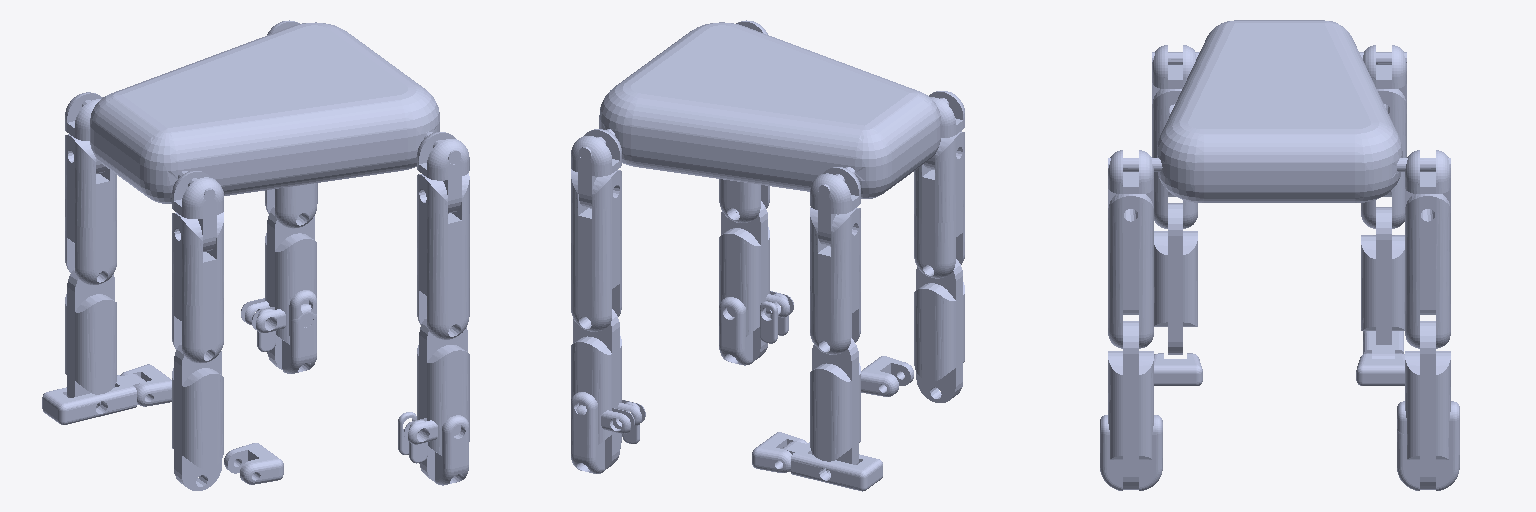
--- Facts derived from the render (not from the file) ---
Views: 3 orthographic renders of the robot side by side, from view 1: azimuth 30°, elevation 25°; view 2: azimuth 150°, elevation 25°; view 3: azimuth 270°, elevation 25°.
Model v1 with 33 links and 32 joints (32 continuous), rooted at Body, posed all joints at 0.
Visible links, largest first — view 1: Body, RTibia, LTibia, RRadius, RMHumerus, LRadius, RMFemur, LMFemur, RLHumerus, LLFemur, RLFemur, LHeel (+11 smaller); view 2: Body, RTibia, LTibia, RRadius, LRadius, LMHumerus, LMFemur, RMFemur, LLHumerus, LLFemur, RLFemur, LHeel (+11 smaller); view 3: Body, RRadius, LRadius, RTibia, LTibia, RMHumerus, LMHumerus, RLHumerus, LLHumerus, LUHumerus, RUHumerus, LWrist (+12 smaller).
Link boxes in pixels (<box>): Body: <box>82,22,460,203</box>; RTibia: <box>172,342,223,490</box>; LTibia: <box>65,268,116,408</box>; RRadius: <box>417,317,469,481</box>; RMHumerus: <box>417,173,469,276</box>; LRadius: <box>265,205,316,369</box>; RMFemur: <box>172,212,223,305</box>; LMFemur: <box>65,134,116,227</box>; RLHumerus: <box>417,266,469,339</box>; LLFemur: <box>65,217,116,284</box>; RLFemur: <box>172,296,223,363</box>; LHeel: <box>42,374,145,424</box>; Body: <box>579,22,951,198</box>; RTibia: <box>914,259,964,402</box>; LTibia: <box>810,338,860,474</box>; RRadius: <box>719,201,769,361</box>; LRadius: <box>571,309,621,469</box>; LMHumerus: <box>571,169,621,270</box>; LMFemur: <box>810,207,860,298</box>; RMFemur: <box>914,131,964,222</box>; LLHumerus: <box>571,261,621,331</box>; LLFemur: <box>810,289,860,354</box>; RLFemur: <box>914,213,964,278</box>; LHeel: <box>782,441,882,491</box>; Body: <box>1108,20,1450,202</box>; RRadius: <box>1108,321,1153,489</box>; LRadius: <box>1405,321,1450,489</box>; RTibia: <box>1154,203,1197,354</box>; LTibia: <box>1361,207,1404,344</box>; RMHumerus: <box>1108,194,1153,288</box>; LMHumerus: <box>1405,194,1450,288</box>; RLHumerus: <box>1108,283,1153,348</box>; LLHumerus: <box>1405,283,1450,348</box>; LUHumerus: <box>1405,150,1450,214</box>; RUHumerus: <box>1108,150,1153,214</box>; LWrist: <box>1397,429,1459,490</box>.
Bounding box of the posed robot: 0.3186 × 0.3497 × 0.3849 m (x, y, z).
Meshes: 33 distinct files referenced, 30 mesh visuals loaded (30 binary STL); not drawn: 3 (reference not matched to a file when rendering).

robot.urdf — v1:
<?xml version="1.0" encoding="utf-8"?>
<!-- This URDF was automatically created by SolidWorks to URDF Exporter! Originally created by Stephen Brawner ([email redacted]) 
     Commit Version: 1.6.0-1-g15f4949  Build Version: 1.6.7594.29634
     For more information, please see http://wiki.ros.org/sw_urdf_exporter -->
<robot
  name="v1">
  <link
    name="Body">
    <inertial>
      <origin
        xyz="0.165830815971687 0.0380999957330949 6.72797849281136E-08"
        rpy="0 0 0" />
      <mass
        value="4.1454834394796" />
      <inertia
        ixx="0.0149485429992683"
        ixy="1.04400709349348E-09"
        ixz="5.33566489153261E-08"
        iyy="0.0416904644531089"
        iyz="2.30763106835205E-09"
        izz="0.0303553236657052" />
    </inertial>
    <visual>
      <origin
        xyz="0 0 0"
        rpy="0 0 0" />
      <geometry>
        <mesh
          filename="package://v1/meshes/Body.STL" />
      </geometry>
      <material
        name="">
        <color
          rgba="0.792156862745098 0.819607843137255 0.933333333333333 1" />
      </material>
    </visual>
    <collision>
      <origin
        xyz="0 0 0"
        rpy="0 0 0" />
      <geometry>
        <mesh
          filename="package://v1/meshes/Body.STL" />
      </geometry>
    </collision>
  </link>
  <link
    name="RUHumerus">
    <inertial>
      <origin
        xyz="0.022663870266748 0.0229280125509594 6.1824736996563E-09"
        rpy="0 0 0" />
      <mass
        value="0.0562874205713042" />
      <inertia
        ixx="2.50946970925149E-05"
        ixy="3.4486496266809E-11"
        ixz="-5.34572357123268E-13"
        iyy="1.43324424769428E-05"
        iyz="1.14161602736865E-11"
        izz="2.96716786302372E-05" />
    </inertial>
    <visual>
      <origin
        xyz="0 0 0"
        rpy="0 0 0" />
      <geometry>
        <mesh
          filename="package://v1/meshes/RUHumerus.STL" />
      </geometry>
      <material
        name="">
        <color
          rgba="0.792156862745098 0.819607843137255 0.933333333333333 1" />
      </material>
    </visual>
    <collision>
      <origin
        xyz="0 0 0"
        rpy="0 0 0" />
      <geometry>
        <mesh
          filename="package://v1/meshes/RUHumerus.STL" />
      </geometry>
    </collision>
  </link>
  <joint
    name="RShoulder1"
    type="continuous">
    <origin
      xyz="0.27432 -0.121591734569834 0.0381"
      rpy="-1.5707963267949 0 -1.5707963267949" />
    <parent
      link="Body" />
    <child
      link="RUHumerus" />
    <axis
      xyz="1 0 0" />
  </joint>
  <link
    name="RMHumerus">
    <inertial>
      <origin
        xyz="-3.47979352832706E-08 -0.0366746706630629 8.00093175046257E-09"
        rpy="0 0 0" />
      <mass
        value="0.138065758700322" />
      <inertia
        ixx="0.000119183734385309"
        ixy="4.21016703711105E-10"
        ixz="-4.18291851727919E-10"
        iyy="4.2657289532051E-05"
        iyz="5.06938412517806E-10"
        izz="0.000115572862627546" />
    </inertial>
    <visual>
      <origin
        xyz="0 0 0"
        rpy="0 0 0" />
      <geometry>
        <mesh
          filename="package://v1/meshes/RMHumerus.STL" />
      </geometry>
      <material
        name="">
        <color
          rgba="0.792156862745098 0.819607843137255 0.933333333333333 1" />
      </material>
    </visual>
    <collision>
      <origin
        xyz="0 0 0"
        rpy="0 0 0" />
      <geometry>
        <mesh
          filename="package://v1/meshes/RMHumerus.STL" />
      </geometry>
    </collision>
  </link>
  <joint
    name="RShoulder2"
    type="continuous">
    <origin
      xyz="0.0226638309978741 0.0435575675675675 0"
      rpy="0 0 3.14159265358979" />
    <parent
      link="RUHumerus" />
    <child
      link="RMHumerus" />
    <axis
      xyz="0 0 1" />
  </joint>
  <link
    name="RLHumerus">
    <inertial>
      <origin
        xyz="2.85344389228115E-08 0.0453008545995078 -4.65570371144253E-09"
        rpy="0 0 0" />
      <mass
        value="0.0924406074551832" />
      <inertia
        ixx="4.46849531177572E-05"
        ixy="-6.06465987997696E-11"
        ixz="9.51259690740704E-13"
        iyy="2.73751063103821E-05"
        iyz="1.71846938484002E-11"
        izz="4.75847417232106E-05" />
    </inertial>
    <visual>
      <origin
        xyz="0 0 0"
        rpy="0 0 0" />
      <geometry>
        <mesh
          filename="package://v1/meshes/RLHumerus.STL" />
      </geometry>
      <material
        name="">
        <color
          rgba="0.792156862745098 0.819607843137255 0.933333333333333 1" />
      </material>
    </visual>
    <collision>
      <origin
        xyz="0 0 0"
        rpy="0 0 0" />
      <geometry>
        <mesh
          filename="package://v1/meshes/RLHumerus.STL" />
      </geometry>
    </collision>
  </link>
  <joint
    name="RElbow1"
    type="continuous">
    <origin
      xyz="0 -0.0606510810810811 0"
      rpy="0 0 3.14159265358979" />
    <parent
      link="RMHumerus" />
    <child
      link="RLHumerus" />
    <axis
      xyz="0 1 0" />
  </joint>
  <link
    name="RRadius">
    <inertial>
      <origin
        xyz="2.77555756156289E-17 0.0770237882411253 -5.55111512312578E-17"
        rpy="0 0 0" />
      <mass
        value="0.225239465270569" />
      <inertia
        ixx="0.000378632787785578"
        ixy="-6.3305156107752E-20"
        ixz="-4.37907769765193E-10"
        iyy="5.98927289877368E-05"
        iyz="-2.09871265964704E-19"
        izz="0.000374806664124816" />
    </inertial>
    <visual>
      <origin
        xyz="0 0 0"
        rpy="0 0 0" />
      <geometry>
        <mesh
          filename="package://v1/meshes/RRadius.STL" />
      </geometry>
      <material
        name="">
        <color
          rgba="0.792156862745098 0.819607843137255 0.933333333333333 1" />
      </material>
    </visual>
    <collision>
      <origin
        xyz="0 0 0"
        rpy="0 0 0" />
      <geometry>
        <mesh
          filename="package://v1/meshes/RRadius.STL" />
      </geometry>
    </collision>
  </link>
  <joint
    name="RElbow2"
    type="continuous">
    <origin
      xyz="0 0.0770237837837839 0"
      rpy="0 0 0" />
    <parent
      link="RLHumerus" />
    <child
      link="RRadius" />
    <axis
      xyz="1 0 0" />
  </joint>
  <link
    name="RWrist">
    <inertial>
      <origin
        xyz="-1.80499076796181E-09 -0.00813891634217762 0.000367364016287702"
        rpy="0 0 0" />
      <mass
        value="0.0217142535290293" />
      <inertia
        ixx="7.75538309862475E-06"
        ixy="1.02617800954508E-11"
        ixz="5.97746342751812E-13"
        iyy="7.35311825881284E-06"
        iyz="-1.27624632546519E-08"
        izz="3.22756377894864E-06" />
    </inertial>
    <visual>
      <origin
        xyz="0 0 0"
        rpy="0 0 0" />
      <geometry>
        <mesh
          filename="package://v1/meshes/RWrist.STL" />
      </geometry>
      <material
        name="">
        <color
          rgba="0.792156862745098 0.819607843137255 0.933333333333333 1" />
      </material>
    </visual>
    <collision>
      <origin
        xyz="0 0 0"
        rpy="0 0 0" />
      <geometry>
        <mesh
          filename="package://v1/meshes/RWrist.STL" />
      </geometry>
    </collision>
  </link>
  <joint
    name="RWrist1"
    type="continuous">
    <origin
      xyz="0 0.154047567567568 0"
      rpy="0 -1.5707963267949 0" />
    <parent
      link="RRadius" />
    <child
      link="RWrist" />
    <axis
      xyz="0 0 1" />
  </joint>
  <link
    name="RPalm">
    <inertial>
      <origin
        xyz="0 -0.0177536698905907 0.00010964769997629"
        rpy="0 0 0" />
      <mass
        value="0.0490148886446744" />
      <inertia
        ixx="2.56442431887875E-05"
        ixy="-4.01486163322907E-21"
        ixz="-4.04520461113371E-21"
        iyy="2.16885601889133E-05"
        iyz="1.03898130085659E-07"
        izz="1.04314681776806E-05" />
    </inertial>
    <visual>
      <origin
        xyz="0 0 0"
        rpy="0 0 0" />
      <geometry>
        <mesh
          filename="package://v1/meshes/RPalm.STL" />
      </geometry>
      <material
        name="">
        <color
          rgba="0.792156862745098 0.819607843137255 0.933333333333333 1" />
      </material>
    </visual>
    <collision>
      <origin
        xyz="0 0 0"
        rpy="0 0 0" />
      <geometry>
        <mesh
          filename="package://v1/meshes/RPalm.STL" />
      </geometry>
    </collision>
  </link>
  <joint
    name="RWrist2"
    type="continuous">
    <origin
      xyz="0 -0.0145142857142857 0.000276794871794883"
      rpy="0 0 0" />
    <parent
      link="RWrist" />
    <child
      link="RPalm" />
    <axis
      xyz="0 1 0" />
  </joint>
  <link
    name="RRFinger1">
    <inertial>
      <origin
        xyz="-0.0126649206428162 -8.10090144964803E-09 0.00885223130661716"
        rpy="0 0 0" />
      <mass
        value="0.0104365547129789" />
      <inertia
        ixx="6.47820598125229E-07"
        ixy="8.86969972156842E-13"
        ixz="2.14754646038546E-09"
        iyy="2.69169048002805E-06"
        iyz="1.76748155452918E-13"
        izz="2.84642748020542E-06" />
    </inertial>
    <visual>
      <origin
        xyz="0 0 0"
        rpy="0 0 0" />
      <geometry>
        <mesh
          filename="package://v1/meshes/RRFinger1.STL" />
      </geometry>
      <material
        name="">
        <color
          rgba="0.792156862745098 0.819607843137255 0.933333333333333 1" />
      </material>
    </visual>
    <collision>
      <origin
        xyz="0 0 0"
        rpy="0 0 0" />
      <geometry>
        <mesh
          filename="package://v1/meshes/RRFinger1.STL" />
      </geometry>
    </collision>
  </link>
  <joint
    name="RRKnuckle1"
    type="continuous">
    <origin
      xyz="0 -0.0368300000000001 0.00144985698900574"
      rpy="0 0 0" />
    <parent
      link="RPalm" />
    <child
      link="RRFinger1" />
    <axis
      xyz="0 0 1" />
  </joint>
  <link
    name="RRFInger2">
    <inertial>
      <origin
        xyz="-0.0128112396275469 -1.11022302462516E-16 0.00317499999999998"
        rpy="0 0 0" />
      <mass
        value="0.00367689699109764" />
      <inertia
        ixx="1.20384568003435E-07"
        ixy="-3.45089830252734E-22"
        ixz="1.50632258559387E-22"
        iyy="5.13888456072003E-07"
        iyz="-2.23960766435866E-22"
        izz="6.11743769207688E-07" />
    </inertial>
    <visual>
      <origin
        xyz="0 0 0"
        rpy="0 0 0" />
      <geometry>
        <mesh
          filename="package://v1/meshes/RRFInger2.STL" />
      </geometry>
      <material
        name="">
        <color
          rgba="0.792156862745098 0.819607843137255 0.933333333333333 1" />
      </material>
    </visual>
    <collision>
      <origin
        xyz="0 0 0"
        rpy="0 0 0" />
      <geometry>
        <mesh
          filename="package://v1/meshes/RRFInger2.STL" />
      </geometry>
    </collision>
  </link>
  <joint
    name="RRKnuckle2"
    type="continuous">
    <origin
      xyz="-0.0330199999999999 0 0.00562306608791727"
      rpy="0 0 -1.5707963267949" />
    <parent
      link="RRFinger1" />
    <child
      link="RRFInger2" />
    <axis
      xyz="0 0 1" />
  </joint>
  <link
    name="RLFinger1">
    <inertial>
      <origin
        xyz="-0.0126649206428162 -8.10090133862573E-09 -0.0123144353600496"
        rpy="0 0 0" />
      <mass
        value="0.0104365547129788" />
      <inertia
        ixx="6.47820598125228E-07"
        ixy="8.86969970337357E-13"
        ixz="2.1475464603851E-09"
        iyy="2.69169048002804E-06"
        iyz="1.76748158357981E-13"
        izz="2.84642748020542E-06" />
    </inertial>
    <visual>
      <origin
        xyz="0 0 0"
        rpy="0 0 0" />
      <geometry>
        <mesh
          filename="package://v1/meshes/RLFinger1.STL" />
      </geometry>
      <material
        name="">
        <color
          rgba="0.792156862745098 0.819607843137255 0.933333333333333 1" />
      </material>
    </visual>
    <collision>
      <origin
        xyz="0 0 0"
        rpy="0 0 0" />
      <geometry>
        <mesh
          filename="package://v1/meshes/RLFinger1.STL" />
      </geometry>
    </collision>
  </link>
  <joint
    name="RLKnuckle1"
    type="continuous">
    <origin
      xyz="0 -0.0368300000000001 0.00144985698900574"
      rpy="0 0 0" />
    <parent
      link="RPalm" />
    <child
      link="RLFinger1" />
    <axis
      xyz="0 0 1" />
  </joint>
  <link
    name="RLFinger2">
    <inertial>
      <origin
        xyz="-0.012811239627547 -8.32667268468867E-17 -0.00317499999999998"
        rpy="0 0 0" />
      <mass
        value="0.00367689699109764" />
      <inertia
        ixx="1.20384568003435E-07"
        ixy="-2.85089309437617E-22"
        ixz="4.50793566593637E-23"
        iyy="5.13888456072003E-07"
        iyz="-2.21027086179487E-22"
        izz="6.11743769207688E-07" />
    </inertial>
    <visual>
      <origin
        xyz="0 0 0"
        rpy="0 0 0" />
      <geometry>
        <mesh
          filename="package://v1/meshes/RLFinger2.STL" />
      </geometry>
      <material
        name="">
        <color
          rgba="0.792156862745098 0.819607843137255 0.933333333333333 1" />
      </material>
    </visual>
    <collision>
      <origin
        xyz="0 0 0"
        rpy="0 0 0" />
      <geometry>
        <mesh
          filename="package://v1/meshes/RLFinger2.STL" />
      </geometry>
    </collision>
  </link>
  <joint
    name="RLKnuckle2"
    type="continuous">
    <origin
      xyz="-0.0330199999999999 0 -0.00919360057874935"
      rpy="0 0 -1.5707963267949" />
    <parent
      link="RLFinger1" />
    <child
      link="RLFinger2" />
    <axis
      xyz="0 0 1" />
  </joint>
  <link
    name="LUHumerus">
    <inertial>
      <origin
        xyz="-0.0226637917290001 0.0229280125509593 6.52412790458357E-09"
        rpy="0 0 0" />
      <mass
        value="0.0562874205713043" />
      <inertia
        ixx="2.5094697092515E-05"
        ixy="3.44864962966554E-11"
        ixz="-5.34571844060203E-13"
        iyy="1.43324424769424E-05"
        iyz="1.11875878172216E-11"
        izz="2.96716786302376E-05" />
    </inertial>
    <visual>
      <origin
        xyz="0 0 0"
        rpy="0 0 0" />
      <geometry>
        <mesh
          filename="package://v1/meshes/LUHumerus.STL" />
      </geometry>
      <material
        name="">
        <color
          rgba="0.792156862745098 0.819607843137255 0.933333333333333 1" />
      </material>
    </visual>
    <collision>
      <origin
        xyz="0 0 0"
        rpy="0 0 0" />
      <geometry>
        <mesh
          filename="package://v1/meshes/LUHumerus.STL" />
      </geometry>
    </collision>
  </link>
  <joint
    name="LShoulder1"
    type="continuous">
    <origin
      xyz="0.27432 0.121591734569834 0.0381"
      rpy="-1.57079634169606 0 -1.5707963267949" />
    <parent
      link="Body" />
    <child
      link="LUHumerus" />
    <axis
      xyz="1 0 0" />
  </joint>
  <link
    name="LMHumerus">
    <inertial>
      <origin
        xyz="-3.47979352832706E-08 -0.036674670663063 8.00093141739566E-09"
        rpy="0 0 0" />
      <mass
        value="0.138065758700322" />
      <inertia
        ixx="0.000119183734385309"
        ixy="4.21016703607286E-10"
        ixz="-4.1829185172669E-10"
        iyy="4.2657289532051E-05"
        iyz="5.06938412453936E-10"
        izz="0.000115572862627546" />
    </inertial>
    <visual>
      <origin
        xyz="0 0 0"
        rpy="0 0 0" />
      <geometry>
        <mesh
          filename="package://v1/meshes/LMHumerus.STL" />
      </geometry>
      <material
        name="">
        <color
          rgba="0.792156862745098 0.819607843137255 0.933333333333333 1" />
      </material>
    </visual>
    <collision>
      <origin
        xyz="0 0 0"
        rpy="0 0 0" />
      <geometry>
        <mesh
          filename="package://v1/meshes/LMHumerus.STL" />
      </geometry>
    </collision>
  </link>
  <joint
    name="LShoulder2"
    type="continuous">
    <origin
      xyz="-0.0226638309978741 0.0435575675675675 0"
      rpy="0 0 3.14159265358979" />
    <parent
      link="LUHumerus" />
    <child
      link="LMHumerus" />
    <axis
      xyz="0 0 1" />
  </joint>
  <link
    name="LLHumerus">
    <inertial>
      <origin
        xyz="2.85344389228115E-08 0.0453008545995077 -4.65570382246483E-09"
        rpy="0 0 0" />
      <mass
        value="0.0924406074551832" />
      <inertia
        ixx="4.46849531177571E-05"
        ixy="-6.06465988253211E-11"
        ixz="9.51259699423134E-13"
        iyy="2.73751063103821E-05"
        iyz="1.71846938432535E-11"
        izz="4.75847417232105E-05" />
    </inertial>
    <visual>
      <origin
        xyz="0 0 0"
        rpy="0 0 0" />
      <geometry>
        <mesh
          filename="package://v1/meshes/LLHumerus.STL" />
      </geometry>
      <material
        name="">
        <color
          rgba="0.792156862745098 0.819607843137255 0.933333333333333 1" />
      </material>
    </visual>
    <collision>
      <origin
        xyz="0 0 0"
        rpy="0 0 0" />
      <geometry>
        <mesh
          filename="package://v1/meshes/LLHumerus.STL" />
      </geometry>
    </collision>
  </link>
  <joint
    name="LElbow1"
    type="continuous">
    <origin
      xyz="0 -0.0606510810810811 0"
      rpy="0 0 3.14159265358979" />
    <parent
      link="LMHumerus" />
    <child
      link="LLHumerus" />
    <axis
      xyz="0 1 0" />
  </joint>
  <link
    name="LRadius">
    <inertial>
      <origin
        xyz="5.55111512312578E-17 -0.0770237882411253 0"
        rpy="0 0 0" />
      <mass
        value="0.22523946527057" />
      <inertia
        ixx="0.000378632787785579"
        ixy="6.45200622354167E-20"
        ixz="4.37907769806526E-10"
        iyy="5.98927289877371E-05"
        iyz="1.53800028193201E-21"
        izz="0.000374806664124817" />
    </inertial>
    <visual>
      <origin
        xyz="0 0 0"
        rpy="0 0 0" />
      <geometry>
        <mesh
          filename="package://v1/meshes/LRadius.STL" />
      </geometry>
      <material
        name="">
        <color
          rgba="0.792156862745098 0.819607843137255 0.933333333333333 1" />
      </material>
    </visual>
    <collision>
      <origin
        xyz="0 0 0"
        rpy="0 0 0" />
      <geometry>
        <mesh
          filename="package://v1/meshes/LRadius.STL" />
      </geometry>
    </collision>
  </link>
  <joint
    name="LElbow2"
    type="continuous">
    <origin
      xyz="0 0.077023783783784 0"
      rpy="0 0 3.14159265358979" />
    <parent
      link="LLHumerus" />
    <child
      link="LRadius" />
    <axis
      xyz="1 0 0" />
  </joint>
  <link
    name="LWrist">
    <inertial>
      <origin
        xyz="-1.80499076796181E-09 -0.00813891634217762 0.000367364016287702"
        rpy="0 0 0" />
      <mass
        value="0.0217142535290293" />
      <inertia
        ixx="7.75538309862477E-06"
        ixy="1.02617800950492E-11"
        ixz="5.97746345773122E-13"
        iyy="7.35311825881286E-06"
        iyz="-1.27624632546537E-08"
        izz="3.22756377894864E-06" />
    </inertial>
    <visual>
      <origin
        xyz="0 0 0"
        rpy="0 0 0" />
      <geometry>
        <mesh
          filename="package://v1/meshes/LWrist.STL" />
      </geometry>
      <material
        name="">
        <color
          rgba="0.792156862745098 0.819607843137255 0.933333333333333 1" />
      </material>
    </visual>
    <collision>
      <origin
        xyz="0 0 0"
        rpy="0 0 0" />
      <geometry>
        <mesh
          filename="package://v1/meshes/LWrist.STL" />
      </geometry>
    </collision>
  </link>
  <joint
    name="LWrist1"
    type="continuous">
    <origin
      xyz="0 -0.154047567567568 0"
      rpy="3.14159265358979 -1.5707963267949 0" />
    <parent
      link="LRadius" />
    <child
      link="LWrist" />
    <axis
      xyz="0 0 1" />
  </joint>
  <link
    name="LPalm">
    <inertial>
      <origin
        xyz="0 -0.0177536698905907 0.00010964769997629"
        rpy="0 0 0" />
      <mass
        value="0.0490148886446744" />
      <inertia
        ixx="2.56442431887875E-05"
        ixy="-4.17105761817786E-21"
        ixz="-3.9685464282277E-21"
        iyy="2.16885601889133E-05"
        iyz="1.03898130085659E-07"
        izz="1.04314681776806E-05" />
    </inertial>
    <visual>
      <origin
        xyz="0 0 0"
        rpy="0 0 0" />
      <geometry>
        <mesh
          filename="package://v1/meshes/LPalm.STL" />
      </geometry>
      <material
        name="">
        <color
          rgba="0.792156862745098 0.819607843137255 0.933333333333333 1" />
      </material>
    </visual>
    <collision>
      <origin
        xyz="0 0 0"
        rpy="0 0 0" />
      <geometry>
        <mesh
          filename="package://v1/meshes/LPalm.STL" />
      </geometry>
    </collision>
  </link>
  <joint
    name="LWrist2"
    type="continuous">
    <origin
      xyz="0 -0.0145142857142858 0.000276794871794911"
      rpy="0 0 0" />
    <parent
      link="LWrist" />
    <child
      link="LPalm" />
    <axis
      xyz="0 1 0" />
  </joint>
  <link
    name="LRFinger1">
    <inertial>
      <origin
        xyz="-0.0126649206428162 -8.10090133862573E-09 0.00885223130661722"
        rpy="0 0 0" />
      <mass
        value="0.0104365547129789" />
      <inertia
        ixx="6.47820598125229E-07"
        ixy="8.86969970151394E-13"
        ixz="2.14754646038558E-09"
        iyy="2.69169048002805E-06"
        iyz="1.76748161126199E-13"
        izz="2.84642748020542E-06" />
    </inertial>
    <visual>
      <origin
        xyz="0 0 0"
        rpy="0 0 0" />
      <geometry>
        <mesh
          filename="package://v1/meshes/LRFinger1.STL" />
      </geometry>
      <material
        name="">
        <color
          rgba="0.792156862745098 0.819607843137255 0.933333333333333 1" />
      </material>
    </visual>
    <collision>
      <origin
        xyz="0 0 0"
        rpy="0 0 0" />
      <geometry>
        <mesh
          filename="package://v1/meshes/LRFinger1.STL" />
      </geometry>
    </collision>
  </link>
  <joint
    name="LRKnuckle1"
    type="continuous">
    <origin
      xyz="0 -0.0368299999999999 0.00144985698900568"
      rpy="0 0 0" />
    <parent
      link="LPalm" />
    <child
      link="LRFinger1" />
    <axis
      xyz="0 0 1" />
  </joint>
  <link
    name="LRFinger2">
    <inertial>
      <origin
        xyz="-0.012811239627547 -1.11022302462516E-16 0.00317499999999998"
        rpy="0 0 0" />
      <mass
        value="0.00367689699109764" />
      <inertia
        ixx="1.20384568003435E-07"
        ixy="1.44620296430837E-22"
        ixz="3.30517772664218E-22"
        iyy="5.13888456072003E-07"
        iyz="1.61558713389257E-23"
        izz="6.11743769207688E-07" />
    </inertial>
    <visual>
      <origin
        xyz="0 0 0"
        rpy="0 0 0" />
      <geometry>
        <mesh
          filename="package://v1/meshes/LRFinger2.STL" />
      </geometry>
      <material
        name="">
        <color
          rgba="0.792156862745098 0.819607843137255 0.933333333333333 1" />
      </material>
    </visual>
    <collision>
      <origin
        xyz="0 0 0"
        rpy="0 0 0" />
      <geometry>
        <mesh
          filename="package://v1/meshes/LRFinger2.STL" />
      </geometry>
    </collision>
  </link>
  <joint
    name="LRKnuckle2"
    type="continuous">
    <origin
      xyz="-0.03302 0 0.00562306608791727"
      rpy="0 0 -1.5707963267949" />
    <parent
      link="LRFinger1" />
    <child
      link="LRFinger2" />
    <axis
      xyz="0 0 1" />
  </joint>
  <link
    name="LLFinger1">
    <inertial>
      <origin
        xyz="-0.0126649206428162 -8.10090144964803E-09 -0.0123144353600494"
        rpy="0 0 0" />
      <mass
        value="0.0104365547129789" />
      <inertia
        ixx="6.47820598125232E-07"
        ixy="8.86969969541433E-13"
        ixz="2.14754646038654E-09"
        iyy="2.69169048002805E-06"
        iyz="1.76748158053941E-13"
        izz="2.84642748020542E-06" />
    </inertial>
    <visual>
      <origin
        xyz="0 0 0"
        rpy="0 0 0" />
      <geometry>
        <mesh
          filename="package://v1/meshes/LLFinger1.STL" />
      </geometry>
      <material
        name="">
        <color
          rgba="0.792156862745098 0.819607843137255 0.933333333333333 1" />
      </material>
    </visual>
    <collision>
      <origin
        xyz="0 0 0"
        rpy="0 0 0" />
      <geometry>
        <mesh
          filename="package://v1/meshes/LLFinger1.STL" />
      </geometry>
    </collision>
  </link>
  <joint
    name="LLKnuckle1"
    type="continuous">
    <origin
      xyz="0 -0.0368299999999999 0.00144985698900568"
      rpy="0 0 0" />
    <parent
      link="LPalm" />
    <child
      link="LLFinger1" />
    <axis
      xyz="0 0 1" />
  </joint>
  <link
    name="LLFinger2">
    <inertial>
      <origin
        xyz="-0.0128112396275469 -2.77555756156289E-17 -0.00317500000000001"
        rpy="0 0 0" />
      <mass
        value="0.00367689699109764" />
      <inertia
        ixx="1.20384568003434E-07"
        ixy="2.44656358913032E-23"
        ixz="3.33118714643611E-22"
        iyy="5.13888456072002E-07"
        iyz="3.53409685539018E-23"
        izz="6.11743769207687E-07" />
    </inertial>
    <visual>
      <origin
        xyz="0 0 0"
        rpy="0 0 0" />
      <geometry>
        <mesh
          filename="package://v1/meshes/LLFinger2.STL" />
      </geometry>
      <material
        name="">
        <color
          rgba="0.792156862745098 0.819607843137255 0.933333333333333 1" />
      </material>
    </visual>
    <collision>
      <origin
        xyz="0 0 0"
        rpy="0 0 0" />
      <geometry>
        <mesh
          filename="package://v1/meshes/LLFinger2.STL" />
      </geometry>
    </collision>
  </link>
  <joint
    name="LLKnuckle2"
    type="continuous">
    <origin
      xyz="-0.03302 0 -0.00919360057874935"
      rpy="0 0 -1.5707963267949" />
    <parent
      link="LLFinger1" />
    <child
      link="LLFinger2" />
    <axis
      xyz="0 0 1" />
  </joint>
  <link
    name="RUFemur">
    <inertial>
      <origin
        xyz="0.022641000205622 -0.0236126458527025 -6.14393801459667E-09"
        rpy="0 0 0" />
      <mass
        value="0.058837160832887" />
      <inertia
        ixx="2.59185386877438E-05"
        ixy="-3.22027306679004E-11"
        ixz="-2.55770327008246E-13"
        iyy="1.48051965700891E-05"
        iyz="1.08782811971348E-11"
        izz="3.04715194779055E-05" />
    </inertial>
    <visual>
      <origin
        xyz="0 0 0"
        rpy="0 0 0" />
      <geometry>
        <mesh
          filename="package://v1/meshes/RUFemur.STL" />
      </geometry>
      <material
        name="">
        <color
          rgba="0.792156862745098 0.819607843137255 0.933333333333333 1" />
      </material>
    </visual>
    <collision>
      <origin
        xyz="0 0 0"
        rpy="0 0 0" />
      <geometry>
        <mesh
          filename="package://v1/meshes/RUFemur.STL" />
      </geometry>
    </collision>
  </link>
  <joint
    name="RHip1"
    type="continuous">
    <origin
      xyz="0.03048 -0.0787364118309958 0.0381"
      rpy="1.5707963267949 0 -1.57079634169606" />
    <parent
      link="Body" />
    <child
      link="RUFemur" />
    <axis
      xyz="1 0 0" />
  </joint>
  <link
    name="RMFemur">
    <inertial>
      <origin
        xyz="-4.34957657252655E-08 -0.031932877177532 1.060702716979E-08"
        rpy="0 0 0" />
      <mass
        value="0.123790820508356" />
      <inertia
        ixx="9.43360851552635E-05"
        ixy="4.4755724932845E-10"
        ixz="-4.30316018922221E-10"
        iyy="3.76217790275506E-05"
        iyz="4.80012269198859E-10"
        izz="9.05552888747606E-05" />
    </inertial>
    <visual>
      <origin
        xyz="0 0 0"
        rpy="0 0 0" />
      <geometry>
        <mesh
          filename="package://v1/meshes/RMFemur.STL" />
      </geometry>
      <material
        name="">
        <color
          rgba="0.792156862745098 0.819607843137255 0.933333333333333 1" />
      </material>
    </visual>
    <collision>
      <origin
        xyz="0 0 0"
        rpy="0 0 0" />
      <geometry>
        <mesh
          filename="package://v1/meshes/RMFemur.STL" />
      </geometry>
    </collision>
  </link>
  <joint
    name="RHip2"
    type="continuous">
    <origin
      xyz="0.0226409652141425 -0.0445895604395604 0"
      rpy="3.14159265358979 0 3.14159265358979" />
    <parent
      link="RUFemur" />
    <child
      link="RMFemur" />
    <axis
      xyz="0 0 1" />
  </joint>
  <link
    name="RLFemur">
    <inertial>
      <origin
        xyz="2.00190801852296E-08 -0.0260332209083051 3.19519880692676E-09"
        rpy="0 0 0" />
      <mass
        value="0.0813765868175624" />
      <inertia
        ixx="3.40076294026606E-05"
        ixy="3.5904139520962E-11"
        ixz="5.5323091654194E-13"
        iyy="2.49568185639496E-05"
        iyz="9.99145356174777E-12"
        izz="3.68818332146124E-05" />
    </inertial>
    <visual>
      <origin
        xyz="0 0 0"
        rpy="0 0 0" />
      <geometry>
        <mesh
          filename="package://v1/meshes/RLFemur.STL" />
      </geometry>
      <material
        name="">
        <color
          rgba="0.792156862745098 0.819607843137255 0.933333333333333 1" />
      </material>
    </visual>
    <collision>
      <origin
        xyz="0 0 0"
        rpy="0 0 0" />
      <geometry>
        <mesh
          filename="package://v1/meshes/RLFemur.STL" />
      </geometry>
    </collision>
  </link>
  <joint
    name="RKnee1"
    type="continuous">
    <origin
      xyz="0 -0.0684543956043956 0"
      rpy="0 0 0" />
    <parent
      link="RMFemur" />
    <child
      link="RLFemur" />
    <axis
      xyz="0 1 0" />
  </joint>
  <link
    name="RTibia">
    <inertial>
      <origin
        xyz="-2.77555756156289E-17 -0.0686637395234806 3.46944695195361E-17"
        rpy="0 0 0" />
      <mass
        value="0.197322267255763" />
      <inertia
        ixx="0.000264988132785359"
        ixy="-6.38479940401183E-21"
        ixz="3.73134589259823E-10"
        iyy="5.20314065854431E-05"
        iyz="8.87913273466858E-20"
        izz="0.000261642260704143" />
    </inertial>
    <visual>
      <origin
        xyz="0 0 0"
        rpy="0 0 0" />
      <geometry>
        <mesh
          filename="package://v1/meshes/RTibia.STL" />
      </geometry>
      <material
        name="">
        <color
          rgba="0.792156862745098 0.819607843137255 0.933333333333333 1" />
      </material>
    </visual>
    <collision>
      <origin
        xyz="0 0 0"
        rpy="0 0 0" />
      <geometry>
        <mesh
          filename="package://v1/meshes/RTibia.STL" />
      </geometry>
    </collision>
  </link>
  <joint
    name="RKnee2"
    type="continuous">
    <origin
      xyz="0 -0.0544285714285715 0"
      rpy="0 0 0" />
    <parent
      link="RLFemur" />
    <child
      link="RTibia" />
    <axis
      xyz="1 0 0" />
  </joint>
  <link
    name="RHeel">
    <inertial>
      <origin
        xyz="0.00431987000828584 9.92670168287191E-10 3.92065185872426E-10"
        rpy="0 0 0" />
      <mass
        value="0.0576266868508424" />
      <inertia
        ixx="1.05875547592147E-05"
        ixy="3.92037871760529E-13"
        ixz="2.64833411785163E-12"
        iyy="6.33611195243211E-05"
        iyz="5.37963402617415E-13"
        izz="5.7440843831984E-05" />
    </inertial>
    <visual>
      <origin
        xyz="0 0 0"
        rpy="0 0 0" />
      <geometry>
        <mesh
          filename="package://v1/meshes/RHeel.STL" />
      </geometry>
      <material
        name="">
        <color
          rgba="0.792156862745098 0.819607843137255 0.933333333333333 1" />
      </material>
    </visual>
    <collision>
      <origin
        xyz="0 0 0"
        rpy="0 0 0" />
      <geometry>
        <mesh
          filename="package://v1/meshes/RHeel.STL" />
      </geometry>
    </collision>
  </link>
  <joint
    name="RAnkle"
    type="continuous">
    <origin
      xyz="0 -0.137327472527473 0"
      rpy="3.14159265358979 -1.5707963267949 0" />
    <parent
      link="RTibia" />
    <child
      link="RHeel" />
    <axis
      xyz="0 0 1" />
  </joint>
  <link
    name="RToe">
    <inertial>
      <origin
        xyz="0.0152672312202715 -9.9670521835904E-09 4.41560903813309E-08"
        rpy="0 0 0" />
      <mass
        value="0.0300993648154242" />
      <inertia
        ixx="8.31457715533237E-06"
        ixy="-3.97612203000633E-12"
        ixz="-8.97804618171271E-12"
        iyy="1.03832181900341E-05"
        iyz="8.67998305855484E-12"
        izz="4.34415013200784E-06" />
    </inertial>
    <visual>
      <origin
        xyz="0 0 0"
        rpy="0 0 0" />
      <geometry>
        <mesh
          filename="package://v1/meshes/RToe.STL" />
      </geometry>
      <material
        name="">
        <color
          rgba="0.792156862745098 0.819607843137255 0.933333333333333 1" />
      </material>
    </visual>
    <collision>
      <origin
        xyz="0 0 0"
        rpy="0 0 0" />
      <geometry>
        <mesh
          filename="package://v1/meshes/RToe.STL" />
      </geometry>
    </collision>
  </link>
  <joint
    name="RToe"
    type="continuous">
    <origin
      xyz="0.05000625 0 0"
      rpy="0 0 0" />
    <parent
      link="RHeel" />
    <child
      link="RToe" />
    <axis
      xyz="0 0 1" />
  </joint>
  <link
    name="LUFemur">
    <inertial>
      <origin
        xyz="-0.022640930222663 0.0236126458527025 5.80656082591058E-09"
        rpy="0 0 0" />
      <mass
        value="0.0588371608328871" />
      <inertia
        ixx="2.59185386877438E-05"
        ixy="3.22027308335256E-11"
        ixz="3.23615027751084E-13"
        iyy="1.48051965700891E-05"
        iyz="1.08782807087764E-11"
        izz="3.04715194779055E-05" />
    </inertial>
    <visual>
      <origin
        xyz="0 0 0"
        rpy="0 0 0" />
      <geometry>
        <mesh
          filename="package://v1/meshes/LUFemur.STL" />
      </geometry>
      <material
        name="">
        <color
          rgba="0.792156862745098 0.819607843137255 0.933333333333333 1" />
      </material>
    </visual>
    <collision>
      <origin
        xyz="0 0 0"
        rpy="0 0 0" />
      <geometry>
        <mesh
          filename="package://v1/meshes/LUFemur.STL" />
      </geometry>
    </collision>
  </link>
  <joint
    name="LHip1"
    type="continuous">
    <origin
      xyz="0.03048 0.0787364118309958 0.0381"
      rpy="-1.5707963267949 0 -1.5707963267949" />
    <parent
      link="Body" />
    <child
      link="LUFemur" />
    <axis
      xyz="1 0 0" />
  </joint>
  <link
    name="LMFemur">
    <inertial>
      <origin
        xyz="-4.34957657252655E-08 -0.031932877177532 1.06070271524428E-08"
        rpy="0 0 0" />
      <mass
        value="0.123790820508356" />
      <inertia
        ixx="9.43360851552635E-05"
        ixy="4.47557249344378E-10"
        ixz="-4.30316018919016E-10"
        iyy="3.76217790275506E-05"
        iyz="4.80012269184774E-10"
        izz="9.05552888747607E-05" />
    </inertial>
    <visual>
      <origin
        xyz="0 0 0"
        rpy="0 0 0" />
      <geometry>
        <mesh
          filename="package://v1/meshes/LMFemur.STL" />
      </geometry>
      <material
        name="">
        <color
          rgba="0.792156862745098 0.819607843137255 0.933333333333333 1" />
      </material>
    </visual>
    <collision>
      <origin
        xyz="0 0 0"
        rpy="0 0 0" />
      <geometry>
        <mesh
          filename="package://v1/meshes/LMFemur.STL" />
      </geometry>
    </collision>
  </link>
  <joint
    name="LHip2"
    type="continuous">
    <origin
      xyz="-0.0226409652141426 0.0445895604395605 0"
      rpy="0 0 3.14159265358979" />
    <parent
      link="LUFemur" />
    <child
      link="LMFemur" />
    <axis
      xyz="0 0 1" />
  </joint>
  <link
    name="LLFemur">
    <inertial>
      <origin
        xyz="2.00190801991074E-08 -0.0260332209083051 3.19519880692676E-09"
        rpy="0 0 0" />
      <mass
        value="0.0813765868175624" />
      <inertia
        ixx="3.40076294026605E-05"
        ixy="3.59041395159758E-11"
        ixz="5.5323091750469E-13"
        iyy="2.49568185639496E-05"
        iyz="9.99145356632214E-12"
        izz="3.68818332146123E-05" />
    </inertial>
    <visual>
      <origin
        xyz="0 0 0"
        rpy="0 0 0" />
      <geometry>
        <mesh
          filename="package://v1/meshes/LLFemur.STL" />
      </geometry>
      <material
        name="">
        <color
          rgba="0.792156862745098 0.819607843137255 0.933333333333333 1" />
      </material>
    </visual>
    <collision>
      <origin
        xyz="0 0 0"
        rpy="0 0 0" />
      <geometry>
        <mesh
          filename="package://v1/meshes/LLFemur.STL" />
      </geometry>
    </collision>
  </link>
  <joint
    name="LKnee1"
    type="continuous">
    <origin
      xyz="0 -0.0684543956043956 0"
      rpy="0 0 0" />
    <parent
      link="LMFemur" />
    <child
      link="LLFemur" />
    <axis
      xyz="0 1 0" />
  </joint>
  <link
    name="LTibia">
    <inertial>
      <origin
        xyz="-1.57552387802795E-10 -0.0677847311179164 -0.0109516826387621"
        rpy="0 0 0" />
      <mass
        value="0.197322267255763" />
      <inertia
        ixx="0.000264988132785369"
        ixy="-5.9988773473273E-11"
        ixz="3.68233008569885E-10"
        iyy="5.73637801161854E-05"
        iyz="-3.3004380963554E-05"
        izz="0.000256309887173391" />
    </inertial>
    <visual>
      <origin
        xyz="0 0 0"
        rpy="0 0 0" />
      <geometry>
        <mesh
          filename="package://v1/meshes/LTibia.STL" />
      </geometry>
      <material
        name="">
        <color
          rgba="0.792156862745098 0.819607843137255 0.933333333333333 1" />
      </material>
    </visual>
    <collision>
      <origin
        xyz="0 0 0"
        rpy="0 0 0" />
      <geometry>
        <mesh
          filename="package://v1/meshes/LTibia.STL" />
      </geometry>
    </collision>
  </link>
  <joint
    name="LKnee2"
    type="continuous">
    <origin
      xyz="0 -0.0544285714285714 0"
      rpy="-0.160181436409911 0 0" />
    <parent
      link="LLFemur" />
    <child
      link="LTibia" />
    <axis
      xyz="1 0 0" />
  </joint>
  <link
    name="LHeel">
    <inertial>
      <origin
        xyz="0.00431987000828584 9.92670168287191E-10 3.9206515811685E-10"
        rpy="0 0 0" />
      <mass
        value="0.0576266868508424" />
      <inertia
        ixx="1.05875547592147E-05"
        ixy="3.92037871238927E-13"
        ixz="2.64833411878742E-12"
        iyy="6.33611195243211E-05"
        iyz="5.37963403386106E-13"
        izz="5.7440843831984E-05" />
    </inertial>
    <visual>
      <origin
        xyz="0 0 0"
        rpy="0 0 0" />
      <geometry>
        <mesh
          filename="package://v1/meshes/LHeel.STL" />
      </geometry>
      <material
        name="">
        <color
          rgba="0.792156862745098 0.819607843137255 0.933333333333333 1" />
      </material>
    </visual>
    <collision>
      <origin
        xyz="0 0 0"
        rpy="0 0 0" />
      <geometry>
        <mesh
          filename="package://v1/meshes/LHeel.STL" />
      </geometry>
    </collision>
  </link>
  <joint
    name="LAnkle"
    type="continuous">
    <origin
      xyz="0 -0.135569455799804 -0.0219033642376833"
      rpy="1.57079623659819 -1.41061489038498 -1.57079623775286" />
    <parent
      link="LTibia" />
    <child
      link="LHeel" />
    <axis
      xyz="0 0 1" />
  </joint>
  <link
    name="LToe">
    <inertial>
      <origin
        xyz="0.0152672312202715 -9.96705223910155E-09 4.41560903535754E-08"
        rpy="0 0 0" />
      <mass
        value="0.0300993648154242" />
      <inertia
        ixx="8.31457715533236E-06"
        ixy="-3.97612203112545E-12"
        ixz="-8.97804618066915E-12"
        iyy="1.03832181900341E-05"
        iyz="8.67998305410331E-12"
        izz="4.34415013200783E-06" />
    </inertial>
    <visual>
      <origin
        xyz="0 0 0"
        rpy="0 0 0" />
      <geometry>
        <mesh
          filename="package://v1/meshes/LToe.STL" />
      </geometry>
      <material
        name="">
        <color
          rgba="0.792156862745098 0.819607843137255 0.933333333333333 1" />
      </material>
    </visual>
    <collision>
      <origin
        xyz="0 0 0"
        rpy="0 0 0" />
      <geometry>
        <mesh
          filename="package://v1/meshes/LToe.STL" />
      </geometry>
    </collision>
  </link>
  <joint
    name="LToe"
    type="continuous">
    <origin
      xyz="0.05000625 0 0"
      rpy="0 0 0" />
    <parent
      link="LHeel" />
    <child
      link="LToe" />
    <axis
      xyz="0 0 1" />
  </joint>
</robot>
